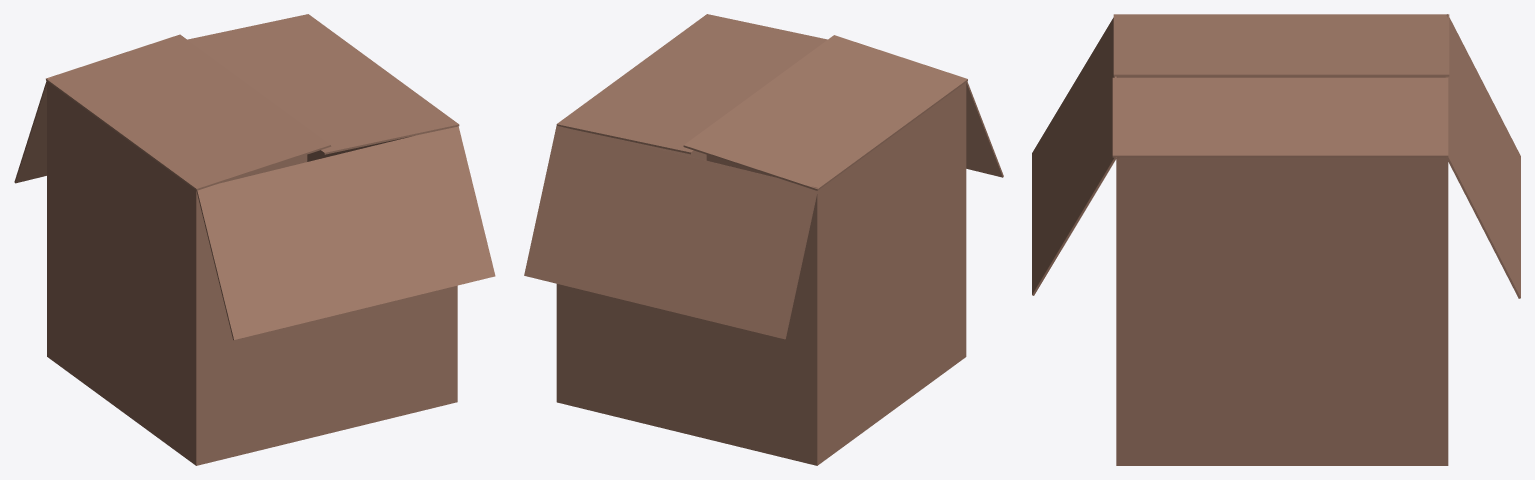
Rendered from Boxhalfclosed_01.fbx.
3 views of the same model, side by side, from view 1: azimuth 30°, elevation 25°; view 2: azimuth 150°, elevation 25°; view 3: azimuth 270°, elevation 25° (orthographic). The views are drawn at different scales.
Parts seen in each view (by area): view 1: group3_pasted__group2_pasted__pasted__group_pasted__pasted__; view 2: group3_pasted__group2_pasted__pasted__group_pasted__pasted__; view 3: group3_pasted__group2_pasted__pasted__group_pasted__pasted__.
Boxes of the visible parts, x1,y1,x2,y2 form: group3_pasted__group2_pasted__pasted__group_pasted__pasted__: (14, 14, 495, 465); group3_pasted__group2_pasted__pasted__group_pasted__pasted__: (524, 14, 1003, 465); group3_pasted__group2_pasted__pasted__group_pasted__pasted__: (1032, 14, 1520, 465).
Size of the model in its own units: 101 by 107 by 147.
